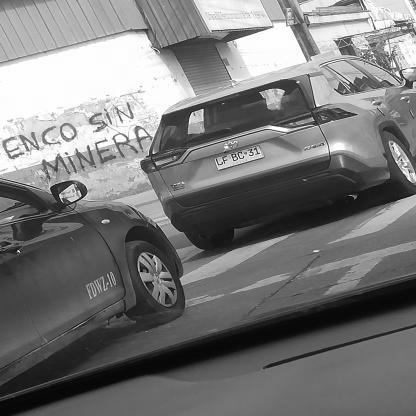Patente: (212, 144, 268, 174)
